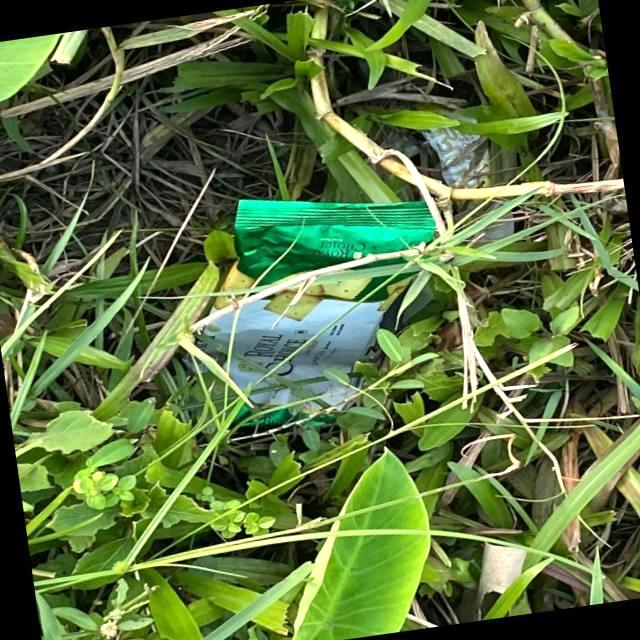packet: (184, 183, 475, 458)
